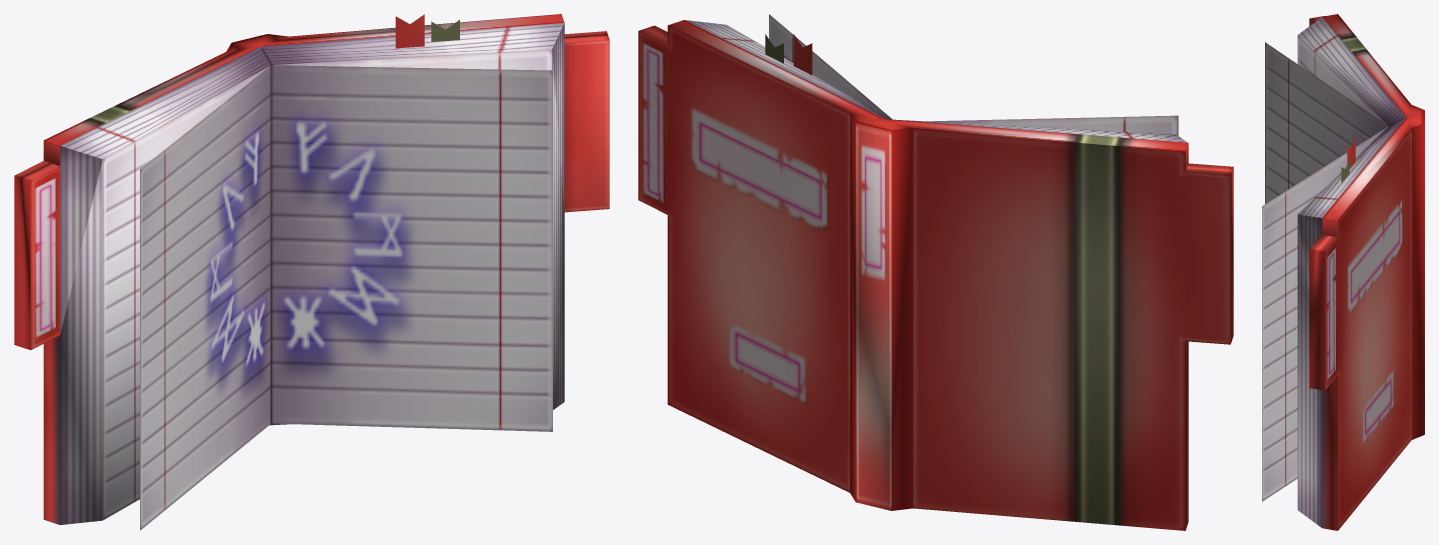
Rendered from Book_02.FBX.
3 renders of one model, left to right at view 1: azimuth 30°, elevation 25°; view 2: azimuth 150°, elevation 25°; view 3: azimuth 270°, elevation 25°, orthographic. The views are drawn at different scales.
Visible parts, largest first — view 1: Book; view 2: Book; view 3: Book.
Boxes of the visible parts, <box> form: Book: <box>14,14,609,530</box>; Book: <box>638,14,1233,530</box>; Book: <box>1262,14,1424,530</box>.
Bounding box in the file's own units: 34.22 × 22.47 × 9.95.
